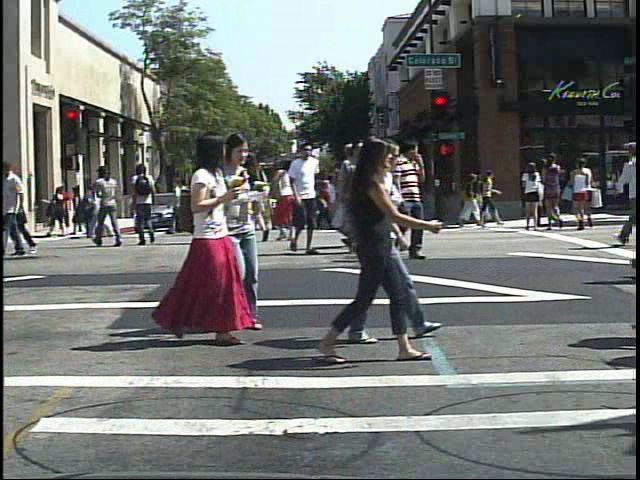person: (311, 128, 431, 364), (329, 136, 434, 347), (169, 128, 252, 347), (220, 129, 270, 333), (381, 135, 436, 262), (374, 136, 420, 261), (282, 137, 323, 260), (343, 138, 382, 250), (364, 142, 400, 250), (242, 145, 278, 246), (611, 126, 639, 249), (273, 147, 305, 248), (91, 162, 126, 249), (132, 165, 163, 246), (519, 158, 546, 234), (281, 164, 301, 233), (58, 183, 78, 233)
